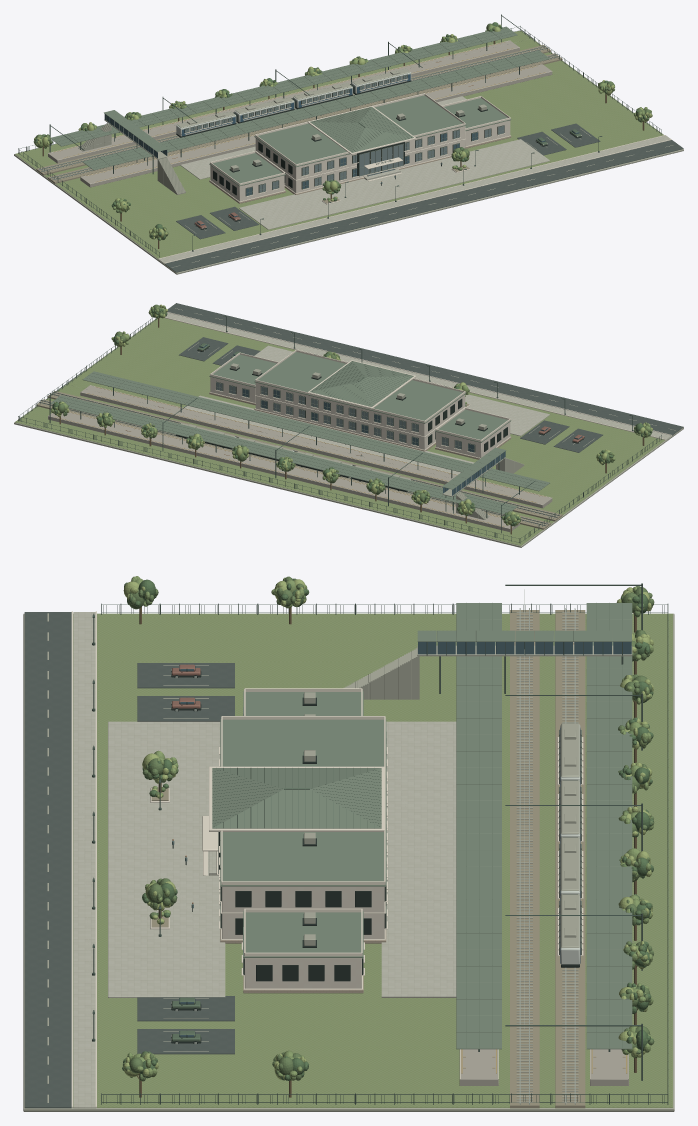
File: railway-connected.glb
3 renders of one model, top to bottom at view 1: azimuth 30°, elevation 25°; view 2: azimuth 150°, elevation 25°; view 3: azimuth 270°, elevation 25°, orthographic. The views are drawn at different scales.
Parts seen in each view (by area): view 1: 材质批次_grass, 材质批次_sage_metal_roof, 材质批次_plaza_paving, 材质批次_asphalt, 材质批次_railway_platform, 材质批次_warm_cream_trim, 材质批次_poi_service_concrete, 材质批次_limestone, 材质批次_planter_gravel, 材质批次_street_metal, 材质批次_poi_window_lit, 材质批次_recess_shadow (+12 smaller); view 2: 材质批次_grass, 材质批次_sage_metal_roof, 材质批次_railway_platform, 材质批次_asphalt, 材质批次_plaza_paving, 材质批次_warm_cream_trim, 材质批次_limestone, 材质批次_poi_service_concrete, 材质批次_street_metal, 材质批次_planter_gravel, 材质批次_railway_tactile, 材质批次_standing_seam (+10 smaller); view 3: 材质批次_grass, 材质批次_sage_metal_roof, 材质批次_plaza_paving, 材质批次_asphalt, 材质批次_planter_gravel, 材质批次_poi_service_concrete, 材质批次_warm_cream_trim, 材质批次_street_metal, 材质批次_limestone, 材质批次_standing_seam, 材质批次_leaf_1, 材质批次_recess_shadow (+11 smaller).
Part boxes in pixels (bbox=[...]): 材质批次_grass: bbox=[15, 30, 663, 258]; 材质批次_sage_metal_roof: bbox=[50, 26, 549, 186]; 材质批次_plaza_paving: bbox=[158, 96, 670, 263]; 材质批次_asphalt: bbox=[165, 123, 683, 272]; 材质批次_railway_platform: bbox=[48, 40, 552, 187]; 材质批次_warm_cream_trim: bbox=[48, 40, 671, 263]; 材质批次_poi_service_concrete: bbox=[14, 30, 683, 274]; 材质批次_limestone: bbox=[210, 120, 510, 204]; 材质批次_planter_gravel: bbox=[36, 45, 562, 203]; 材质批次_street_metal: bbox=[18, 14, 661, 257]; 材质批次_poi_window_lit: bbox=[185, 75, 504, 192]; 材质批次_recess_shadow: bbox=[176, 74, 581, 229]; 材质批次_grass: bbox=[15, 317, 664, 545]; 材质批次_sage_metal_roof: bbox=[50, 352, 549, 514]; 材质批次_railway_platform: bbox=[48, 385, 552, 531]; 材质批次_asphalt: bbox=[167, 303, 683, 452]; 材质批次_plaza_paving: bbox=[165, 312, 671, 474]; 材质批次_warm_cream_trim: bbox=[48, 312, 671, 528]; 材质批次_limestone: bbox=[210, 377, 510, 457]; 材质批次_poi_service_concrete: bbox=[14, 319, 683, 547]; 材质批次_street_metal: bbox=[18, 315, 661, 543]; 材质批次_planter_gravel: bbox=[36, 391, 562, 529]; 材质批次_railway_tactile: bbox=[54, 386, 545, 526]; 材质批次_standing_seam: bbox=[53, 361, 545, 512]; 材质批次_grass: bbox=[73, 613, 672, 1107]; 材质批次_sage_metal_roof: bbox=[212, 603, 632, 1049]; 材质批次_plaza_paving: bbox=[73, 612, 456, 1108]; 材质批次_asphalt: bbox=[24, 612, 234, 1108]; 材质批次_planter_gravel: bbox=[151, 610, 585, 1108]; 材质批次_poi_service_concrete: bbox=[23, 612, 674, 1111]; 材质批次_warm_cream_trim: bbox=[71, 611, 628, 1107]; 材质批次_street_metal: bbox=[92, 583, 668, 1104]; 材质批次_limestone: bbox=[150, 787, 384, 988]; 材质批次_standing_seam: bbox=[212, 603, 622, 1047]; 材质批次_leaf_1: bbox=[123, 576, 654, 1081]; 材质批次_recess_shadow: bbox=[171, 669, 580, 1043].
Size of the model in its own units: 180 by 12.97 by 100.
34 materials, 5 textured.
